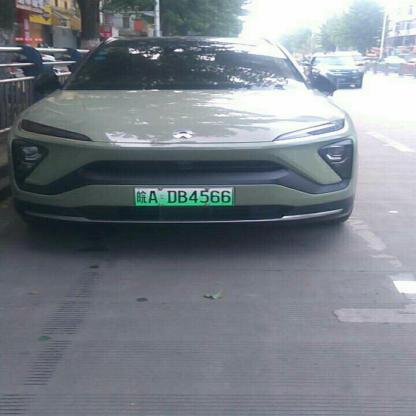lp: (133, 187, 234, 206)
